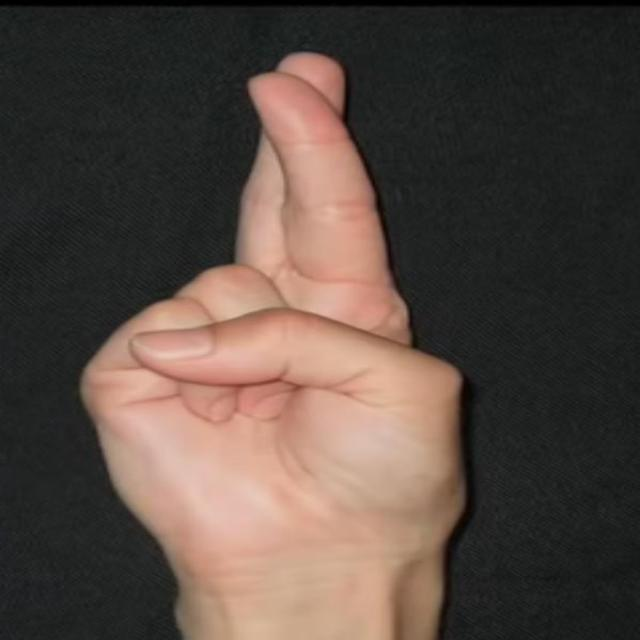R: (68, 44, 476, 584)
